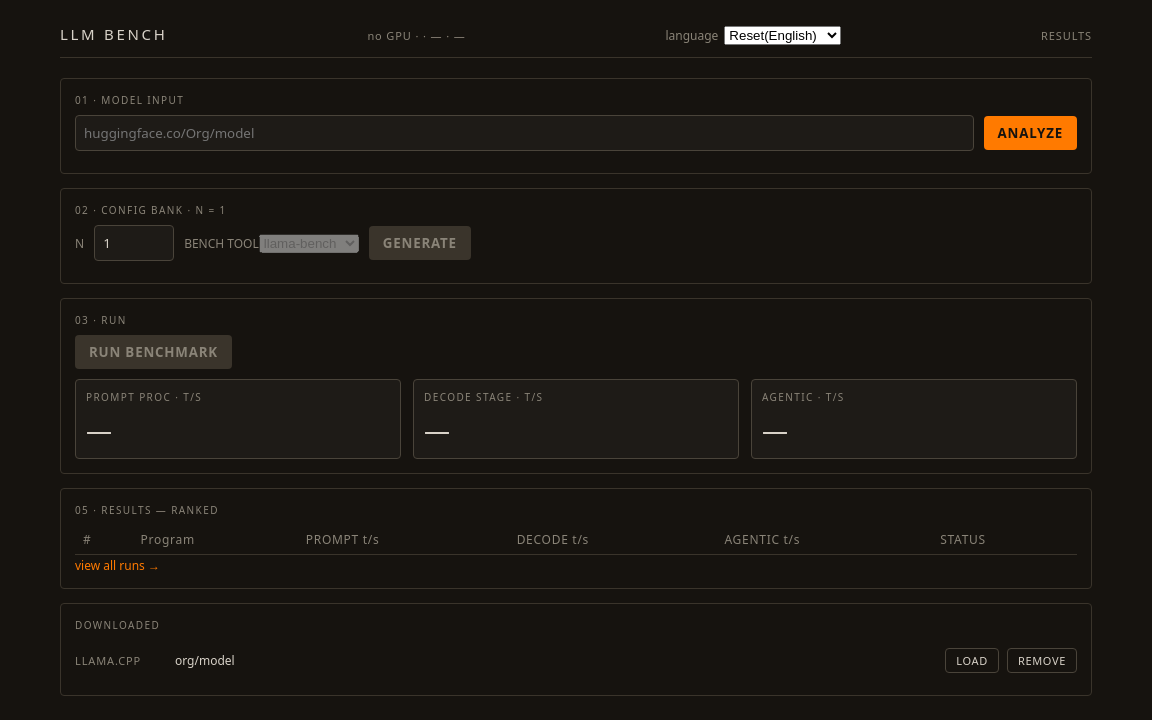
Test case: REMOVE deletes the whole repo and refreshes the list
Check: the text "org/model" is shown, box [175, 652, 235, 669]
Click the button "REMOVE".
click(1042, 660)  # box [1007, 648, 1077, 673]
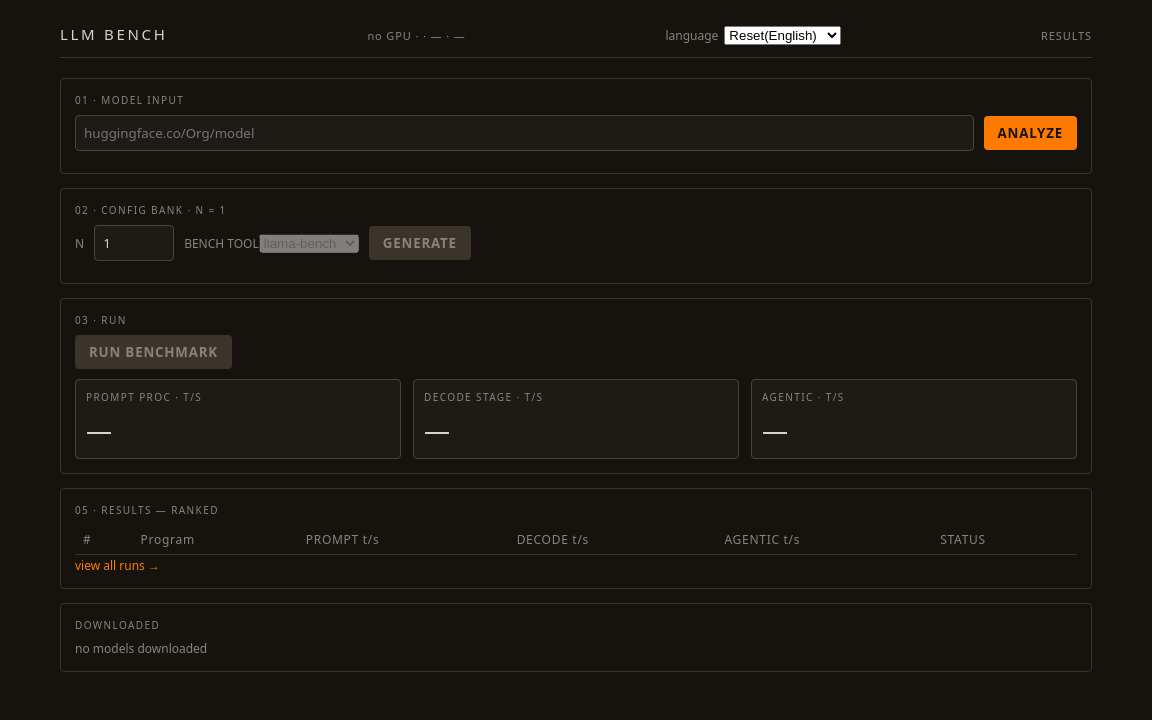
Check: the text "no models downloaded" is shown, box [75, 640, 207, 657]
